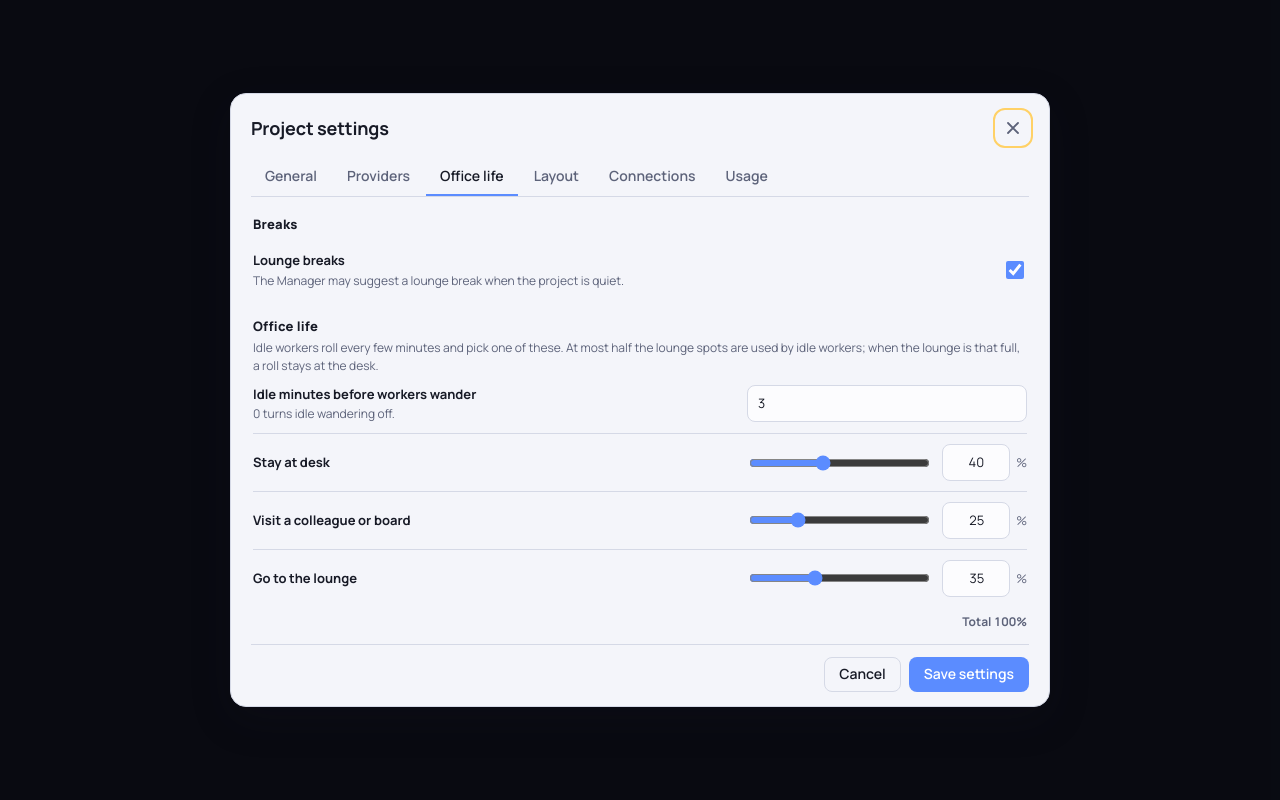
Test: Settings: Office life › blocks saving until the three chances add up to 100
The width and height of the screenshot is (1280, 800).
Clear the number field named "Go to the lounge percent" at (976, 578), box [942,560,1010,597]
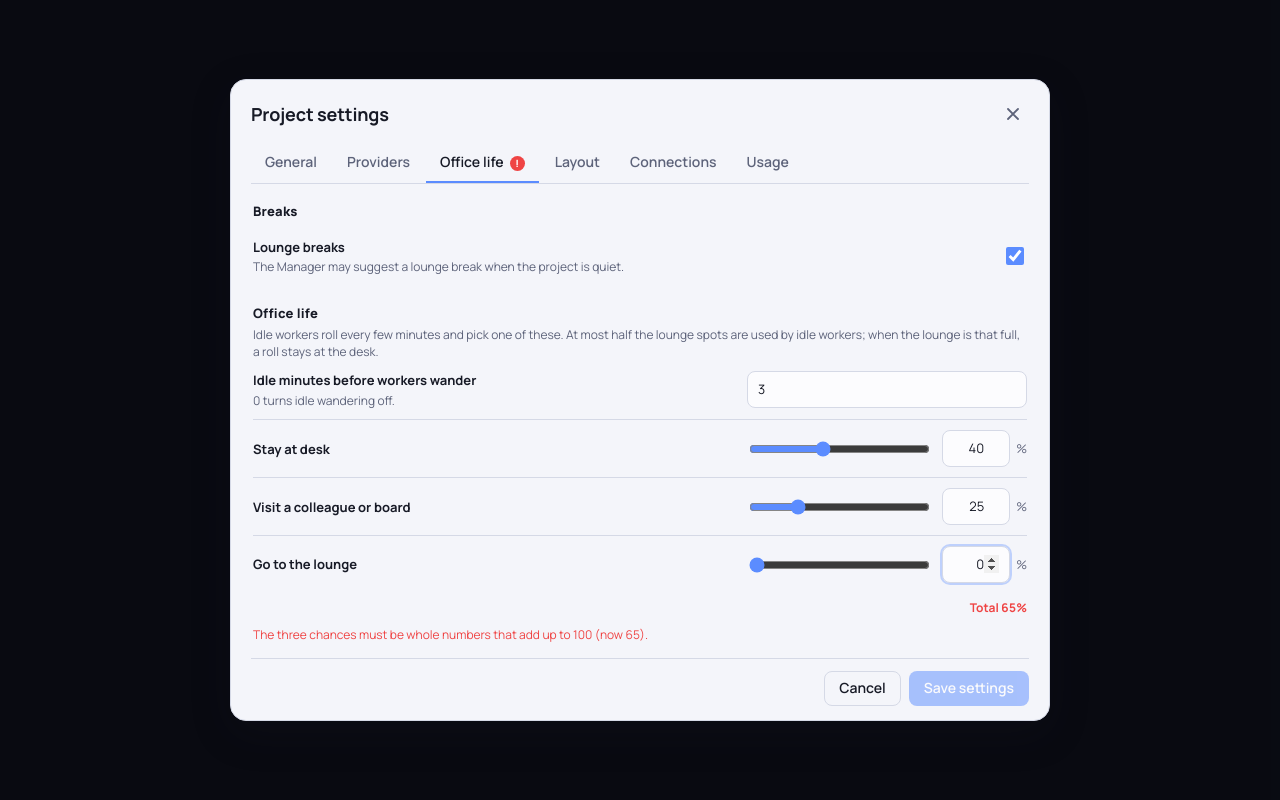
Type "50" into the number field named "Go to the lounge percent".
click(976, 564); type("50")  # box [942,546,1010,583]
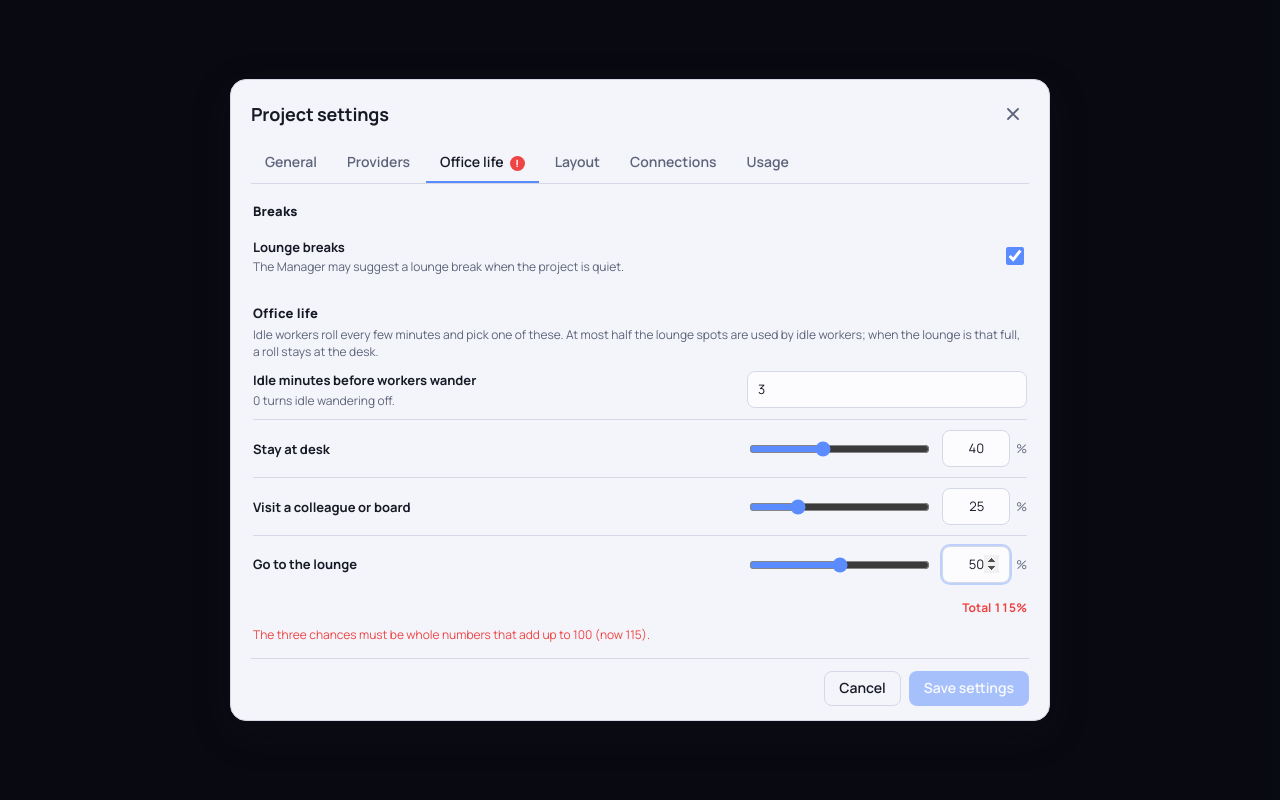
expect the button "Save settings" is disabled: met, box [909,671,1029,706]
expect the message shows "add up to 100 (now 115)": met, box [253,626,650,643]
Replace the text in the number field named "Go to the lounge percent" with "35" at (976, 564), box [942,546,1010,583]
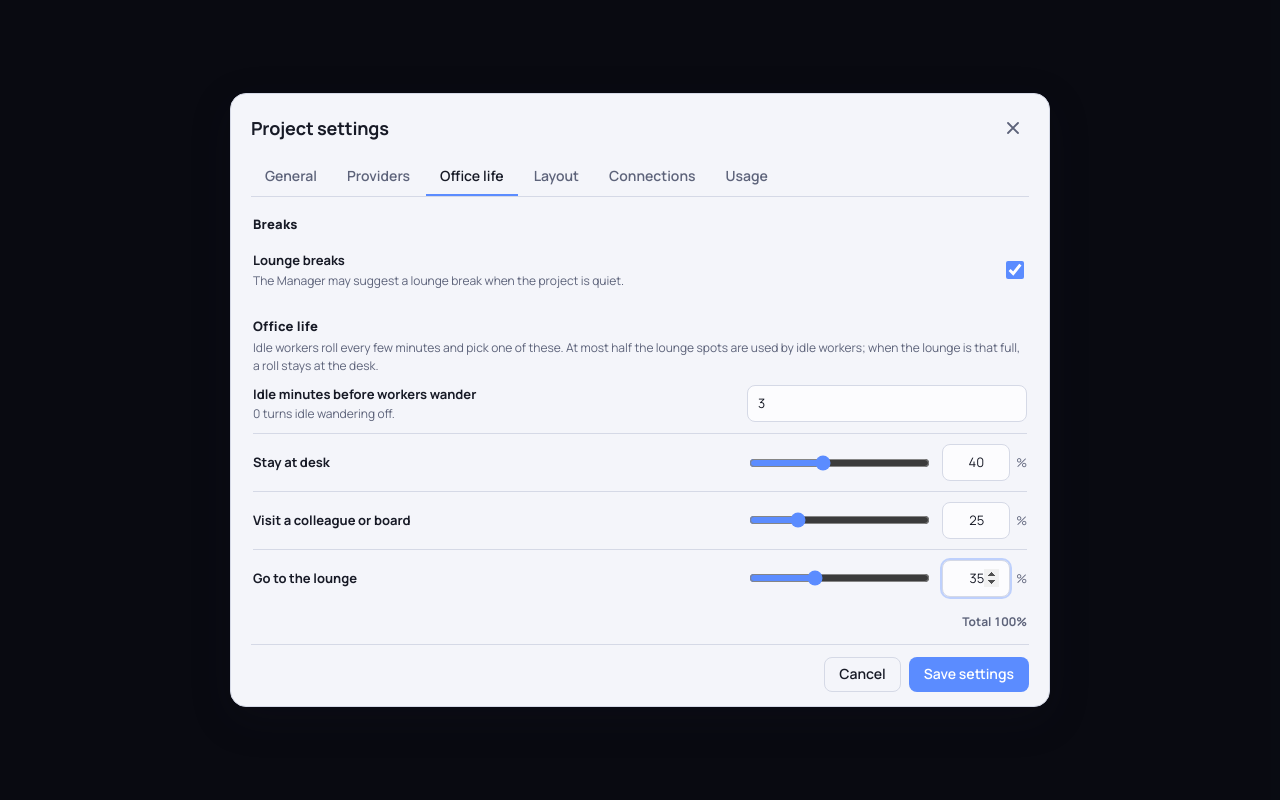
expect the message "The three chances must be whole numbers that add up to 100 (now 65)." is gone: met
expect the button "Save settings" is enabled: met, box [909,657,1029,692]
